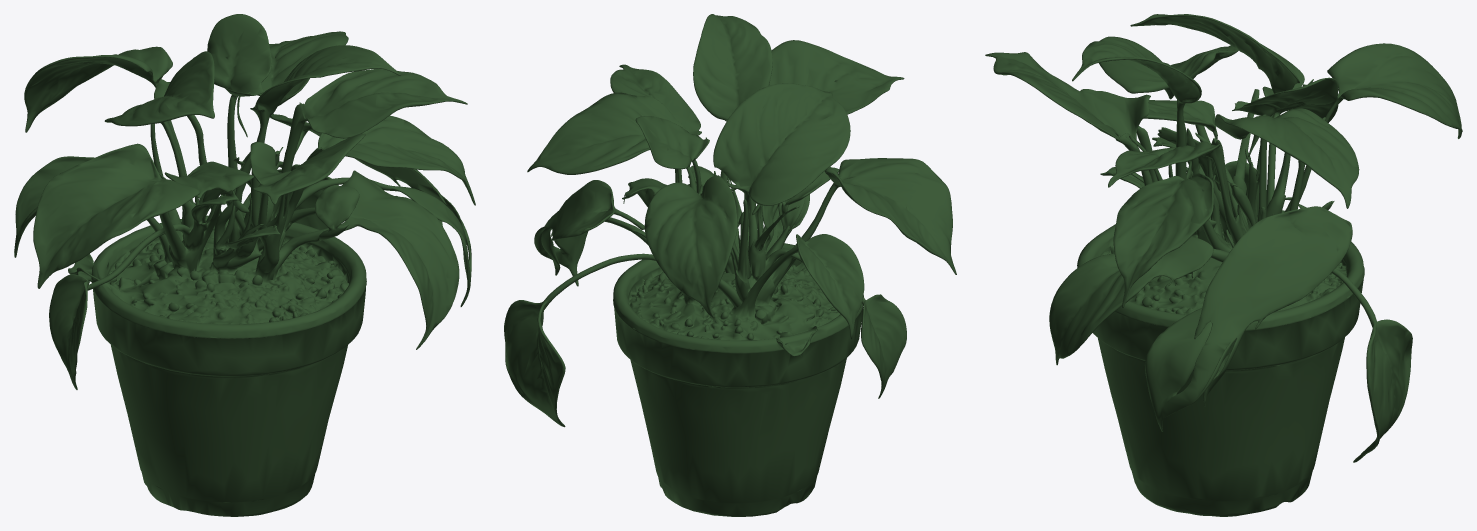
The model's file is gen-potted-plant-terracotta-1.glb.
3 renders of one model, left to right at view 1: azimuth 30°, elevation 25°; view 2: azimuth 150°, elevation 25°; view 3: azimuth 270°, elevation 25°, orthographic. The views are drawn at different scales.
Parts seen in each view (by area): view 1: gen-potted-plant-terracotta-1_part1; view 2: gen-potted-plant-terracotta-1_part1; view 3: gen-potted-plant-terracotta-1_part1.
Part boxes in pixels (left/top/right/bottom): gen-potted-plant-terracotta-1_part1: left=14, top=14, right=475, bottom=516; gen-potted-plant-terracotta-1_part1: left=504, top=14, right=956, bottom=516; gen-potted-plant-terracotta-1_part1: left=985, top=14, right=1462, bottom=516.
Size of the model in its own units: 465 by 450 by 417.
